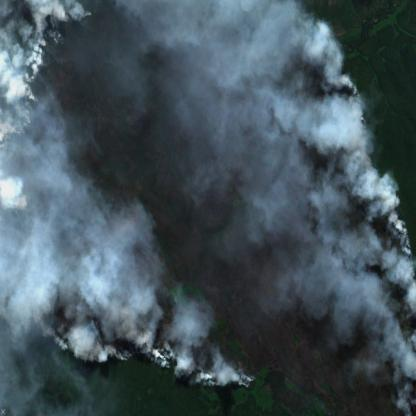fire: (0, 0, 82, 137), (341, 72, 370, 128), (388, 212, 416, 262), (94, 340, 132, 364), (154, 342, 180, 376), (236, 363, 259, 392), (202, 369, 218, 391)
